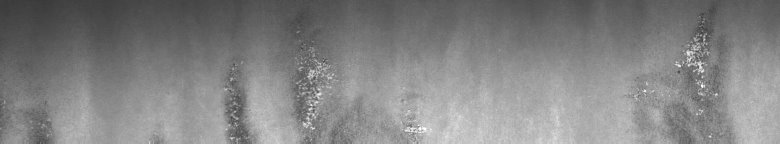hc: (219, 31, 343, 136)
